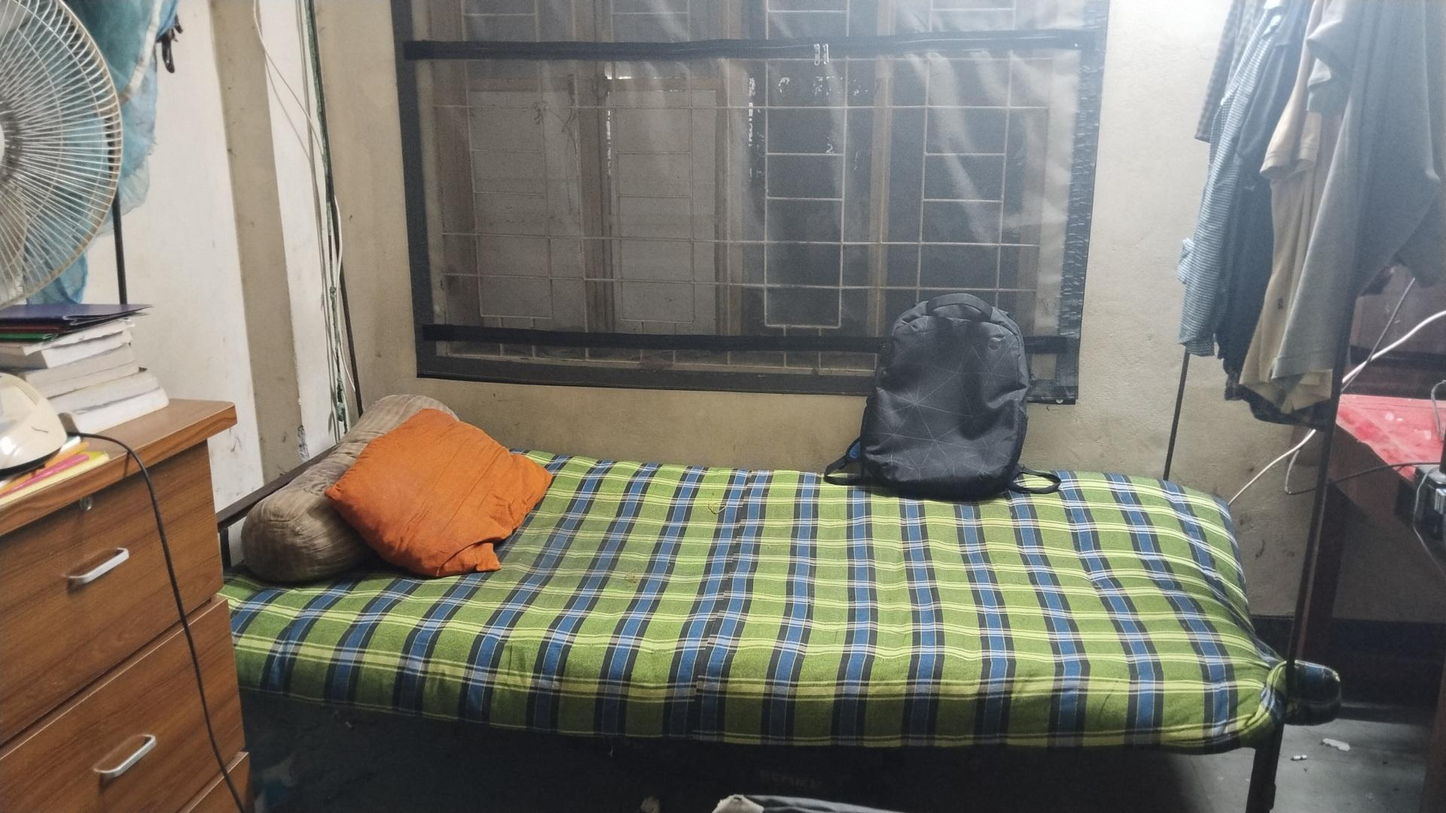Bag: (871, 293, 1028, 495)
Pillow: (328, 407, 552, 570)
